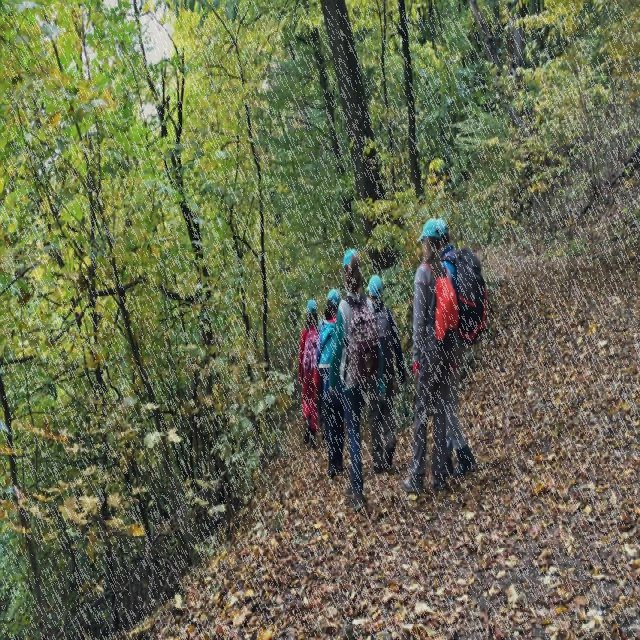pessoa: (400, 215, 460, 494), (326, 245, 387, 515), (433, 215, 490, 482), (363, 272, 408, 476), (314, 286, 346, 482), (295, 296, 321, 451), (316, 318, 332, 442)
